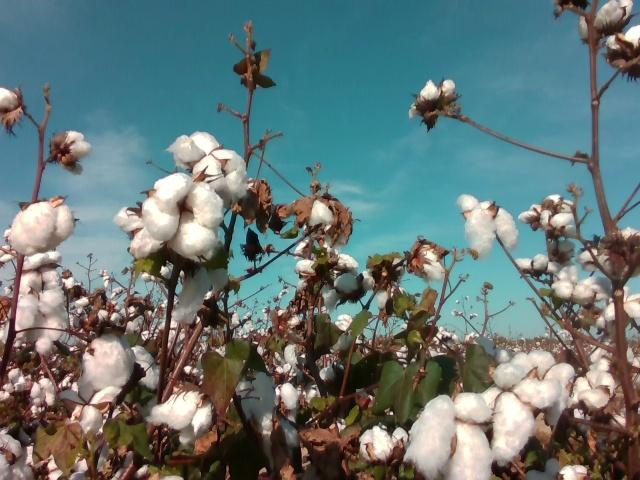cotton_ready: (484, 360, 563, 467), (408, 394, 493, 480), (142, 171, 222, 262), (145, 383, 217, 446), (513, 350, 574, 424), (457, 194, 519, 259), (12, 198, 75, 256), (171, 263, 228, 324), (60, 375, 122, 429), (83, 331, 134, 391), (192, 148, 248, 200), (115, 203, 164, 261), (301, 198, 351, 248), (235, 372, 275, 434), (550, 266, 613, 302), (260, 414, 301, 469), (10, 302, 70, 338), (599, 228, 640, 279), (167, 132, 222, 169), (596, 284, 640, 329), (323, 273, 374, 310), (409, 79, 457, 118), (52, 130, 91, 175), (19, 268, 65, 305), (574, 370, 615, 411), (411, 241, 447, 283), (129, 345, 161, 389), (594, 0, 634, 33), (607, 25, 640, 64), (359, 425, 393, 460), (472, 335, 511, 360), (517, 255, 564, 275), (331, 313, 353, 355), (376, 285, 408, 309), (550, 213, 577, 241), (22, 252, 61, 271), (30, 378, 55, 407), (0, 88, 24, 117), (284, 341, 308, 369), (578, 246, 601, 274), (519, 203, 541, 231), (279, 383, 299, 409), (392, 427, 409, 457), (314, 246, 340, 265), (557, 464, 587, 480), (335, 252, 359, 270), (542, 194, 564, 213), (578, 10, 591, 42), (294, 259, 318, 275), (294, 238, 313, 256), (557, 240, 577, 257), (540, 210, 551, 231), (319, 366, 335, 380), (560, 199, 573, 213)
